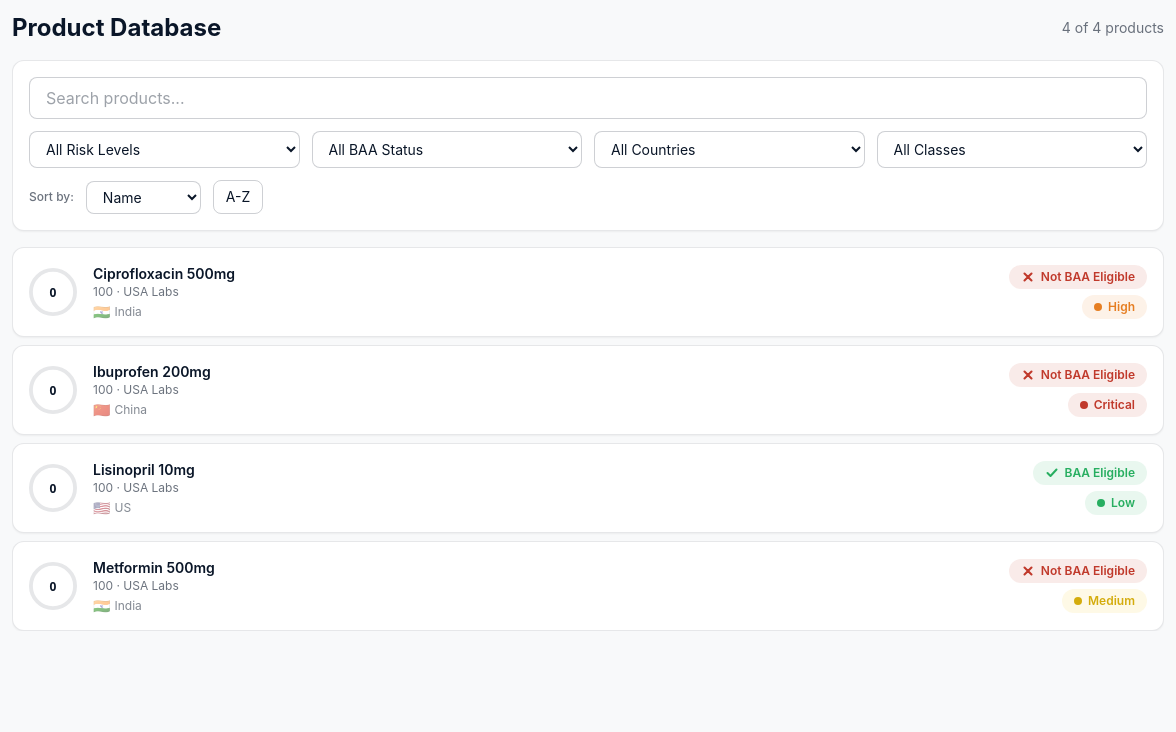
Test case: ProductList › filters reduce displayed count › filters by risk level
Select "Critical" in the dropdown with test id "filter-risk" at [164, 150], box [29,131,300,168]
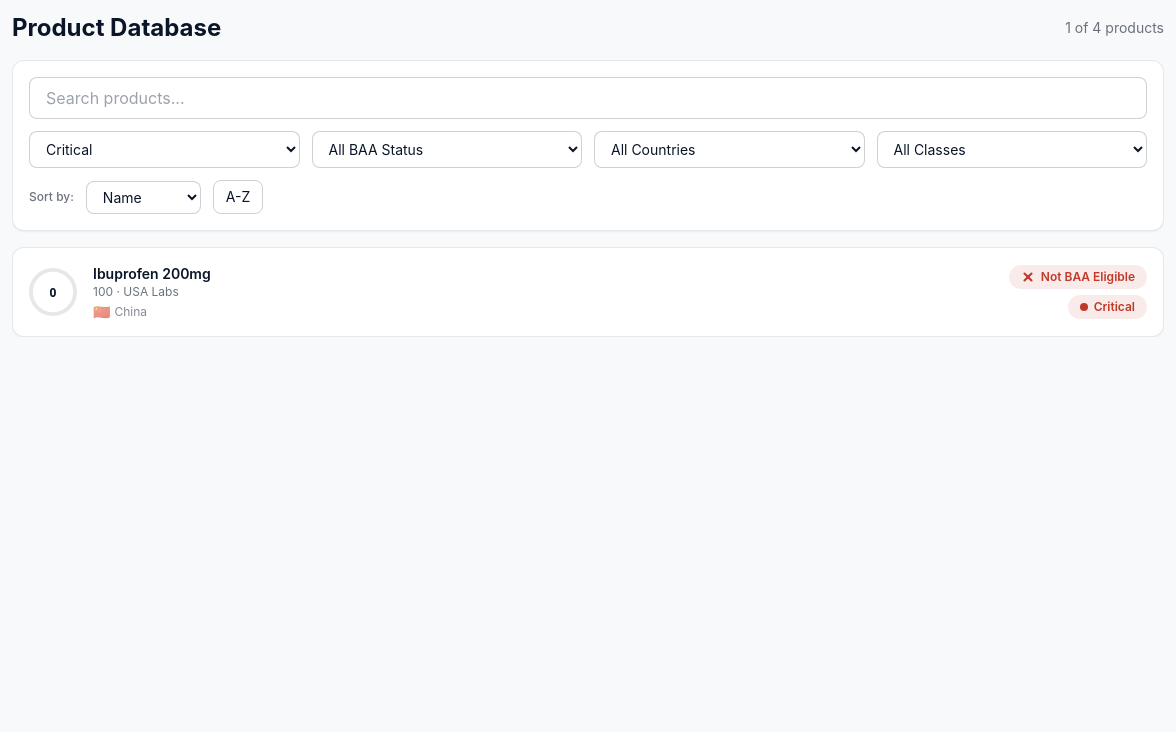
Check: the number of buttons with test id "product-card" is 1, box [12,247,1164,337]
